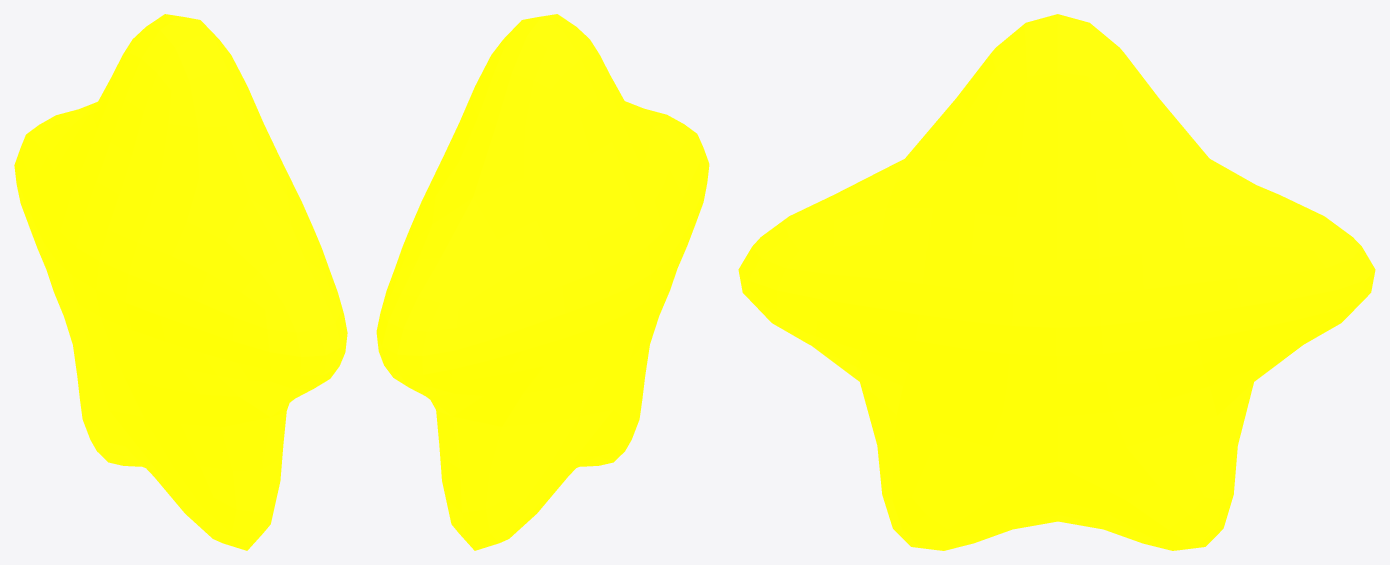
The model's file is cute_star_368.glb.
The picture shows the model from 3 angles, left to right: view 1: azimuth 30°, elevation 25°; view 2: azimuth 150°, elevation 25°; view 3: azimuth 270°, elevation 25°; orthographic projection. The views are drawn at different scales.
Parts seen in each view (by area): view 1: cute_star_368; view 2: cute_star_368; view 3: cute_star_368.
Part boxes in pixels (x1=…): cute_star_368: x1=14, y1=14, x2=347, y2=550; cute_star_368: x1=376, y1=14, x2=709, y2=550; cute_star_368: x1=738, y1=14, x2=1375, y2=550.
Bounding box in the file's own units: 1.12 × 2.4 × 2.59.
